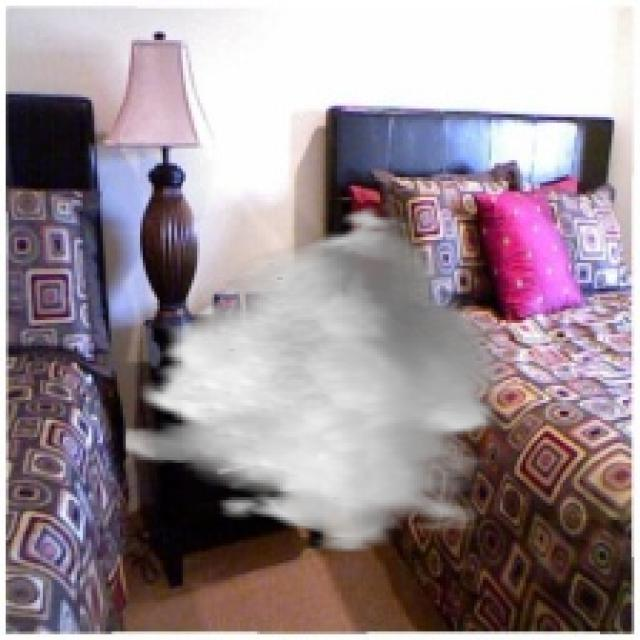smoke: (123, 200, 511, 551)
